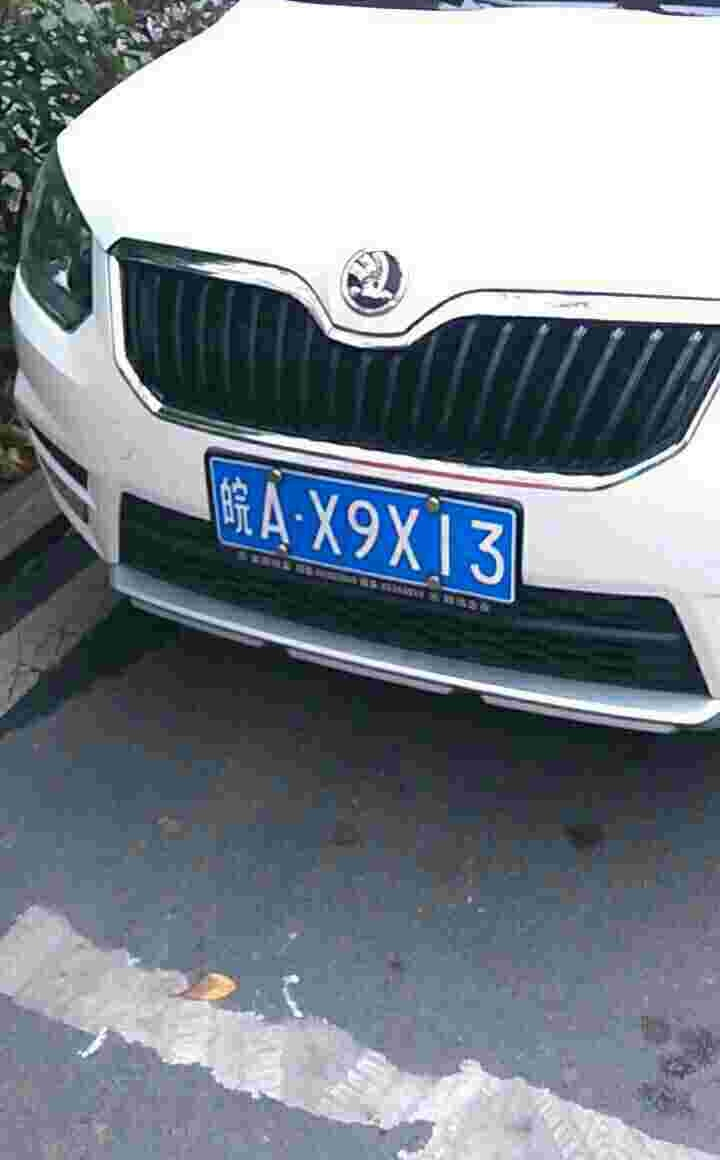car_blue: (203, 454, 522, 613)
